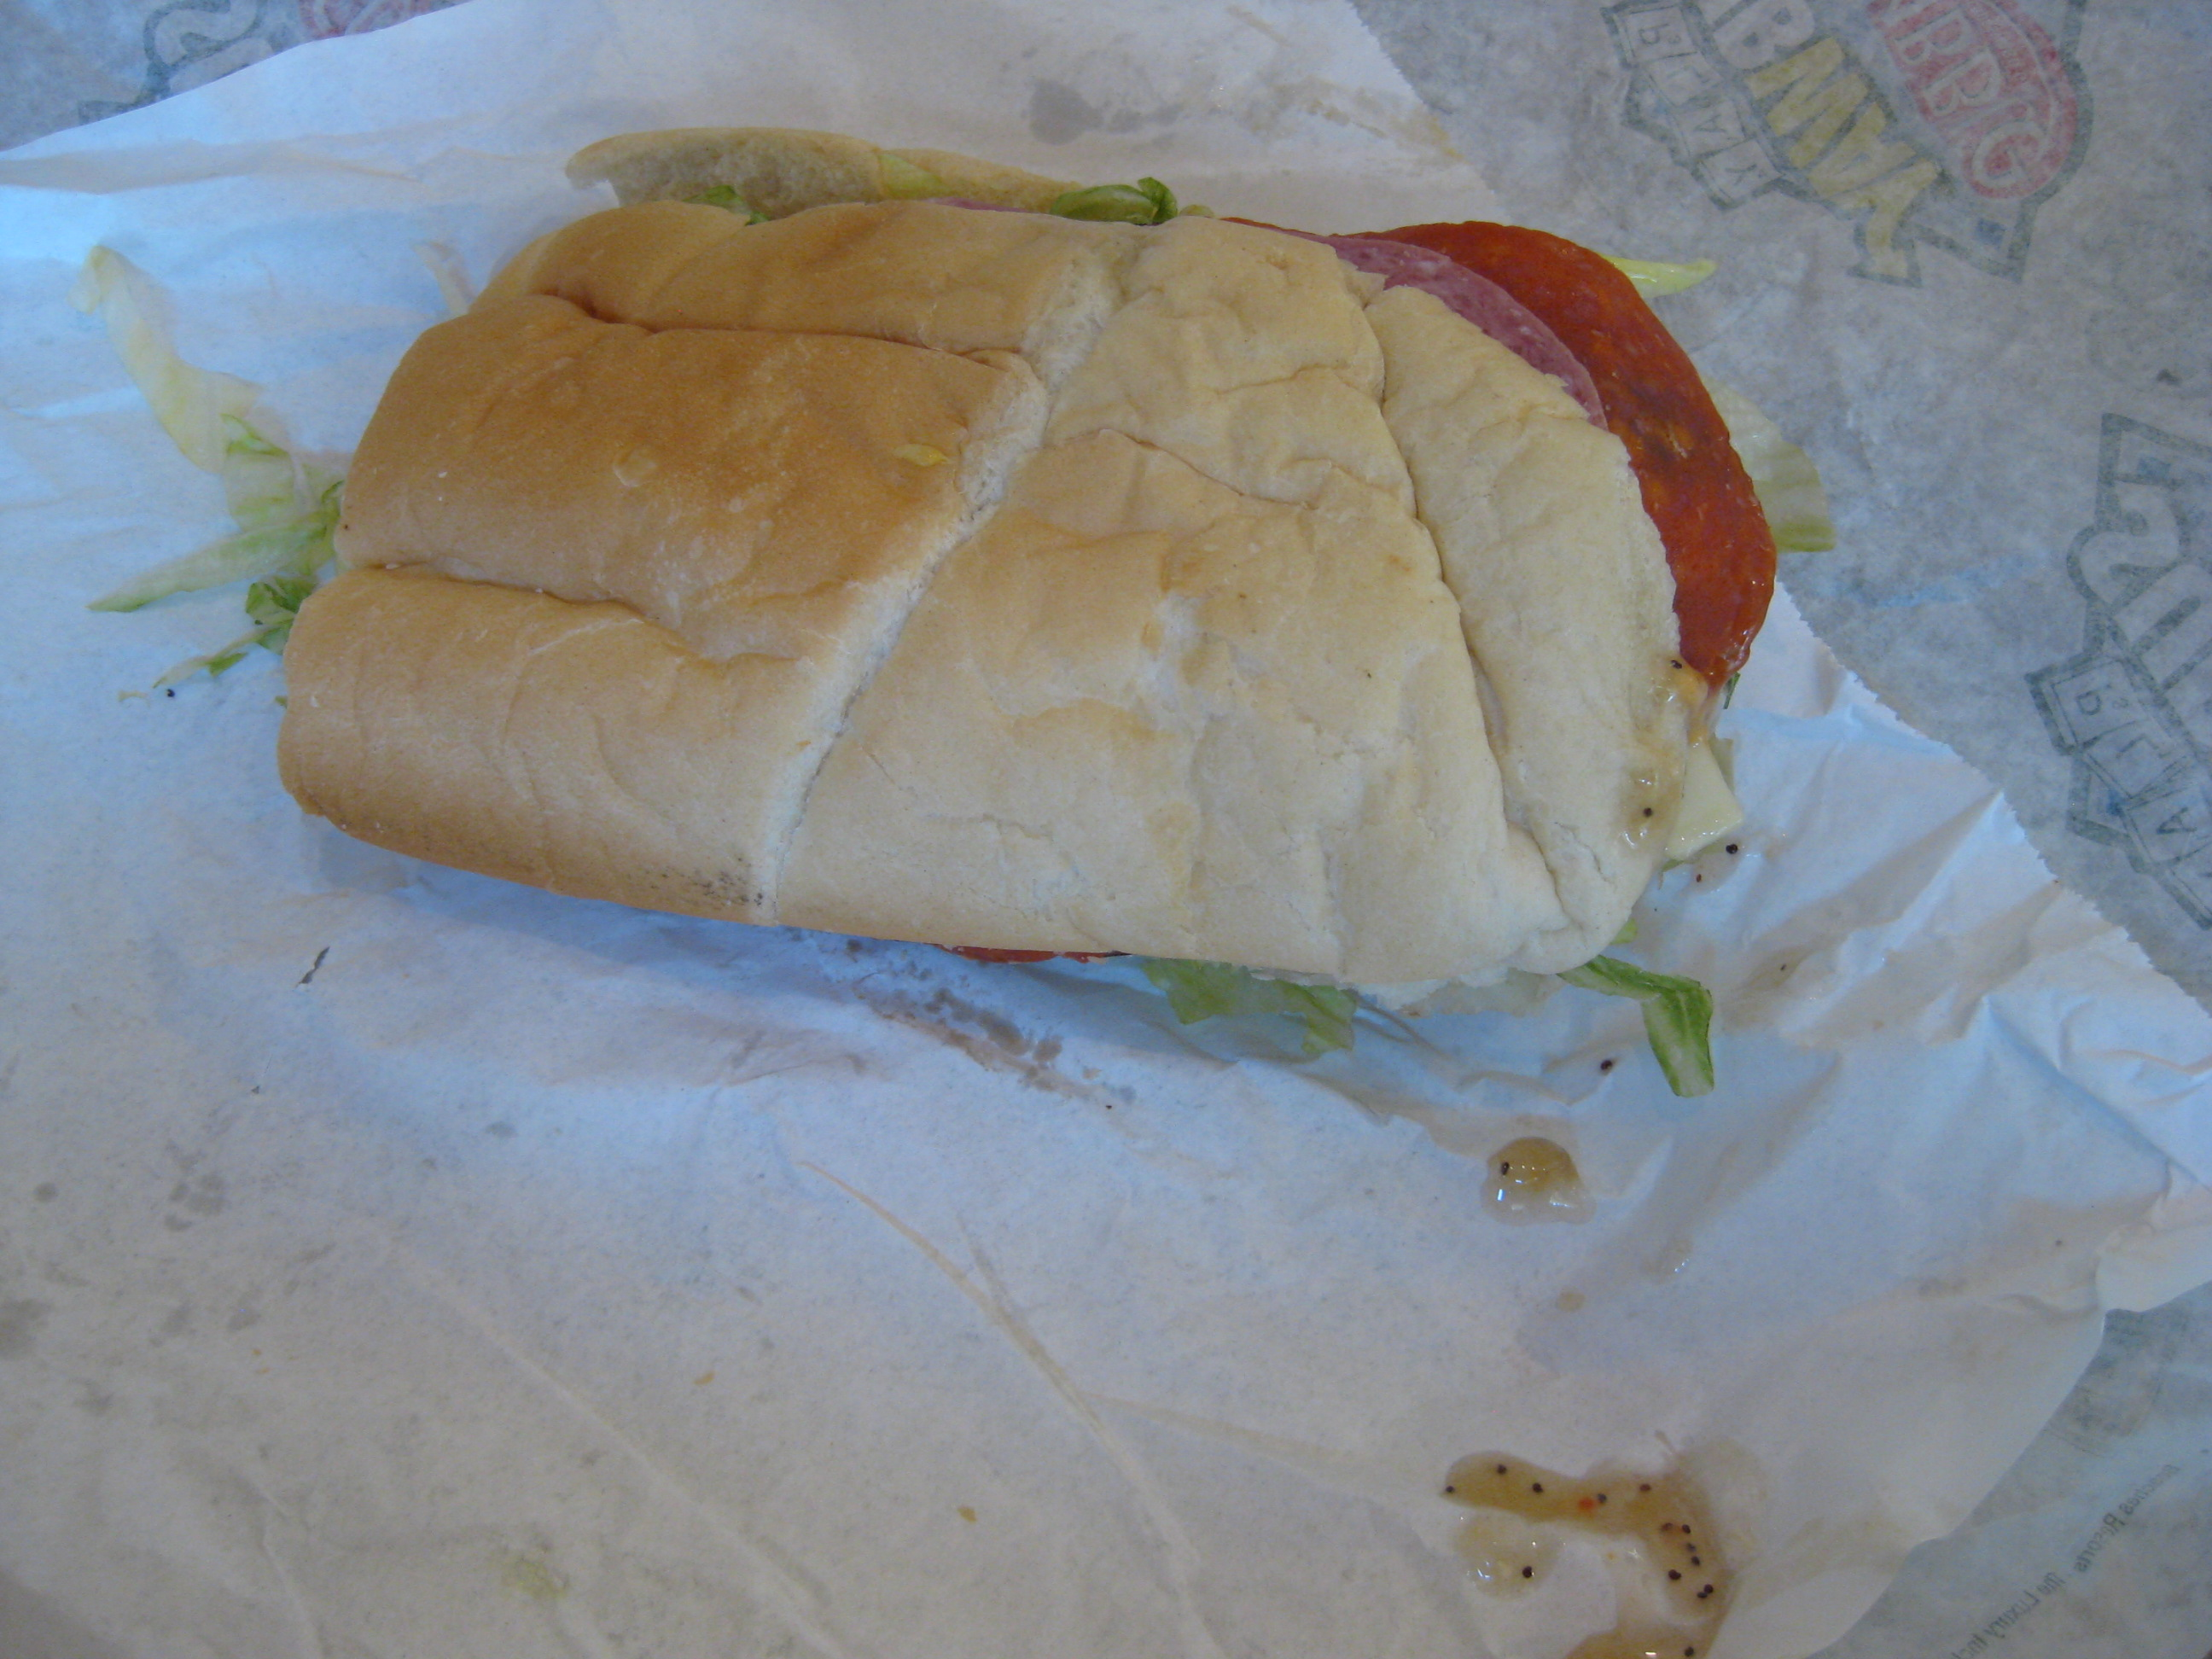sub: (272, 93, 1898, 1039)
